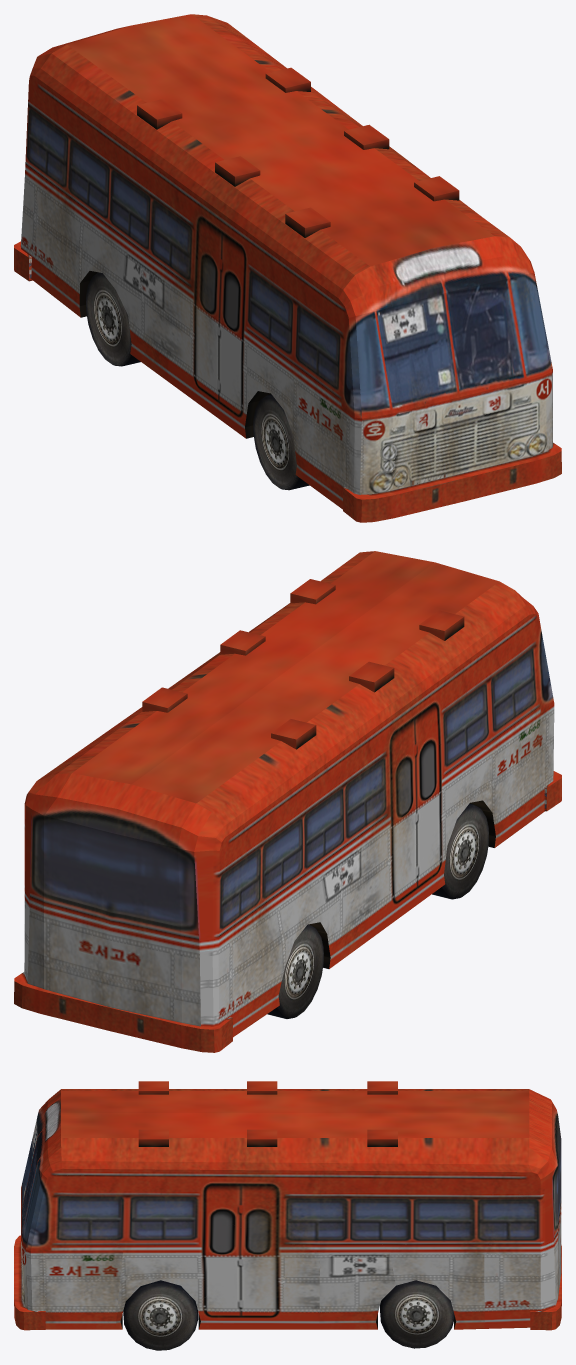
The model's file is red_bus.fbx.
3 views of the same model, one above another, from view 1: azimuth 30°, elevation 25°; view 2: azimuth 150°, elevation 25°; view 3: azimuth 270°, elevation 25° (orthographic). The views are drawn at different scales.
Visible parts, largest first — view 1: polySurface37, polySurface30, polySurface46, polySurface45, polySurface38, polySurface39, polySurface40, polySurface43, polySurface42, polySurface41; view 2: polySurface37, polySurface31, polySurface46, polySurface45, polySurface40, polySurface39, polySurface38, polySurface42, polySurface43, polySurface41; view 3: polySurface37, polySurface44, polySurface32, polySurface30, polySurface31, polySurface41, polySurface43, polySurface42, polySurface40, polySurface39, polySurface38.
Part boxes in pixels (x1,y1,x2,y2): polySurface37: (20,14,552,509); polySurface30: (343,442,561,522); polySurface46: (253,394,309,490); polySurface45: (86,272,140,366); polySurface38: (285,207,330,237); polySurface39: (215,156,260,186); polySurface40: (137,99,182,129); polySurface43: (414,176,459,201); polySurface42: (344,124,389,149); polySurface41: (265,67,310,92); polySurface37: (24,551,554,1037); polySurface31: (14,972,232,1052); polySurface46: (432,803,488,899); polySurface45: (267,924,323,1018); polySurface40: (271,719,316,749); polySurface39: (349,661,394,692); polySurface38: (419,610,464,640); polySurface42: (220,630,265,655); polySurface43: (290,579,335,604); polySurface41: (142,687,187,712); polySurface37: (21,1089,561,1329); polySurface44: (123,1280,198,1350); polySurface32: (380,1280,454,1348); polySurface30: (14,1235,45,1330); polySurface31: (530,1245,561,1330); polySurface41: (367,1129,397,1146); polySurface43: (138,1129,168,1146); polySurface42: (247,1129,277,1146); polySurface40: (367,1081,397,1094); polySurface39: (247,1081,277,1094); polySurface38: (138,1081,168,1094).
Size of the model in its own units: 2.78 by 3.44 by 8.31.
2 materials, 2 textured.
